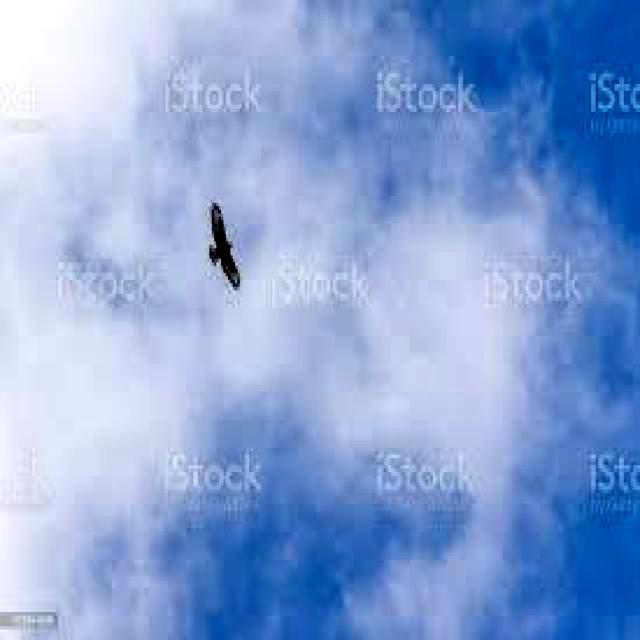bird: (206, 196, 246, 292)
